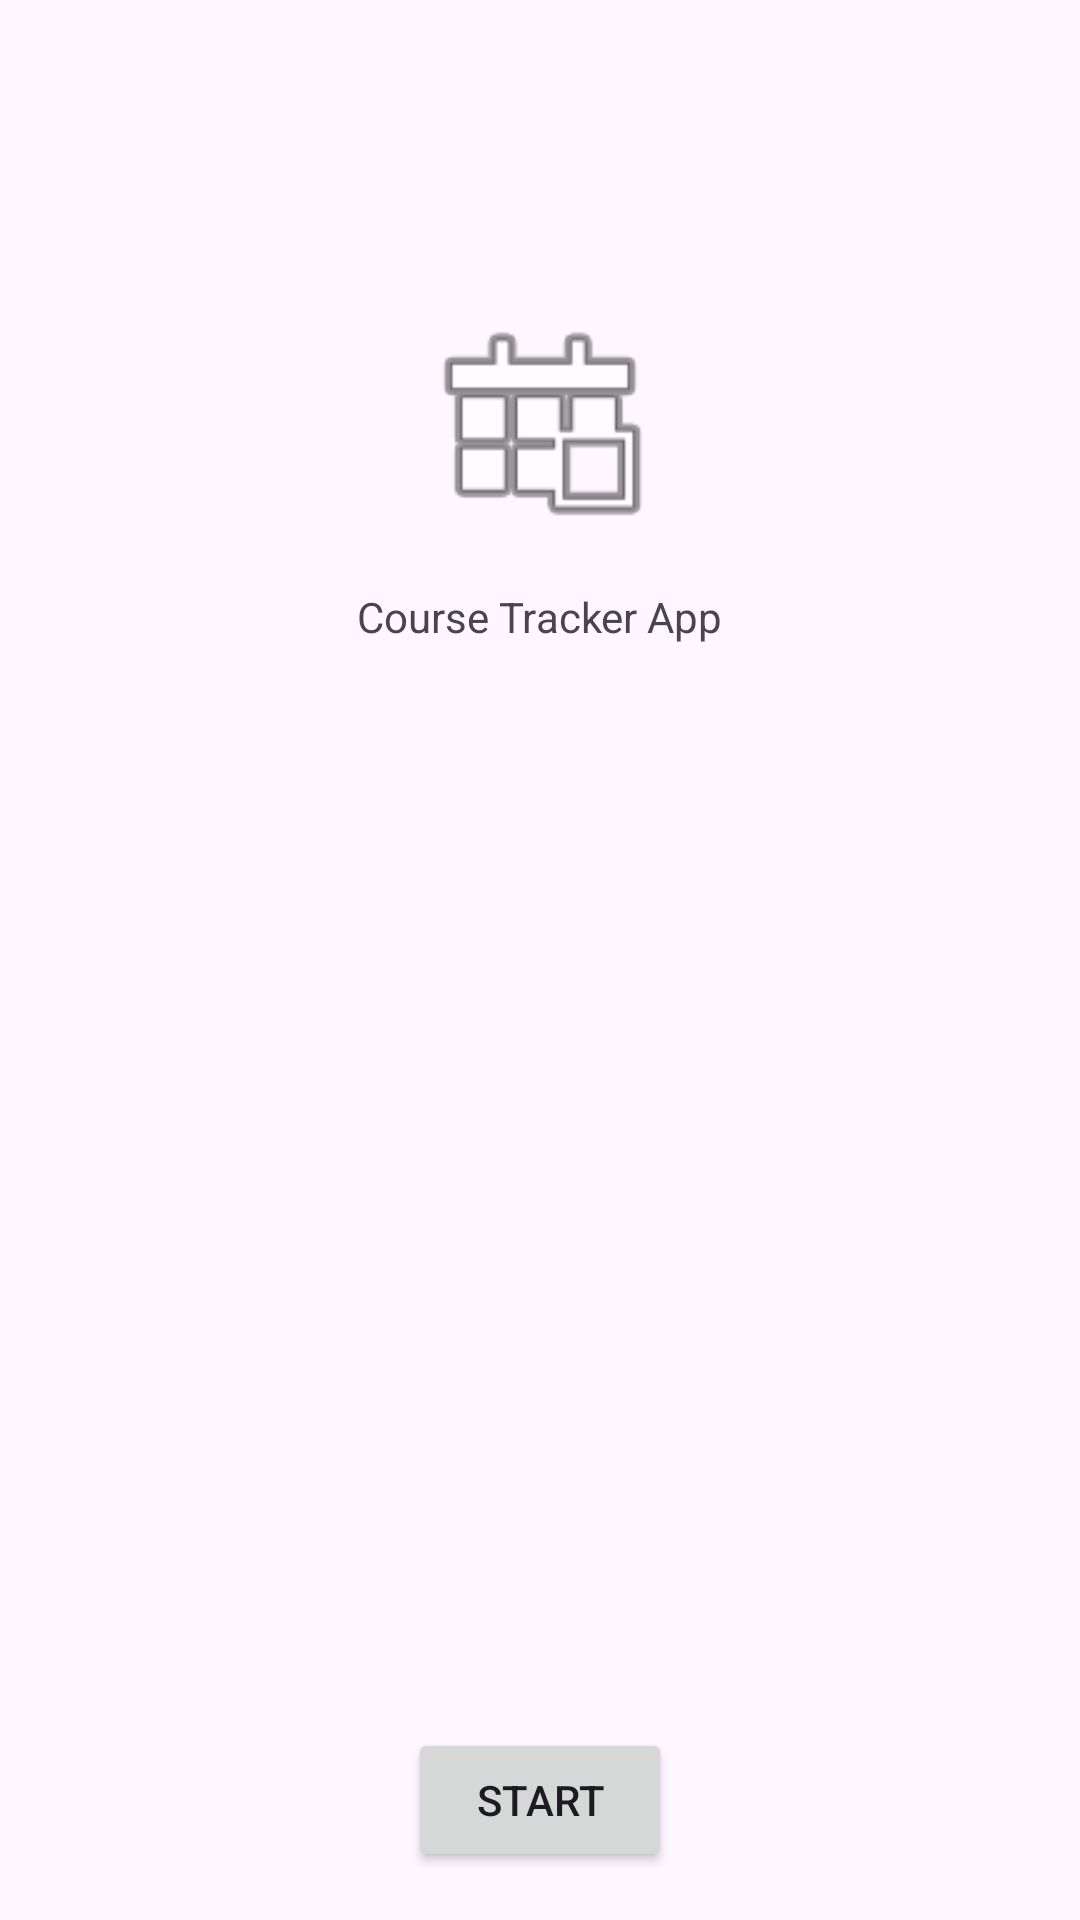

Locate icon controls on the screen. Image size 1080 × 1920, boxes as (x1, y1, x2, y2).
today: (444, 332, 641, 515)
